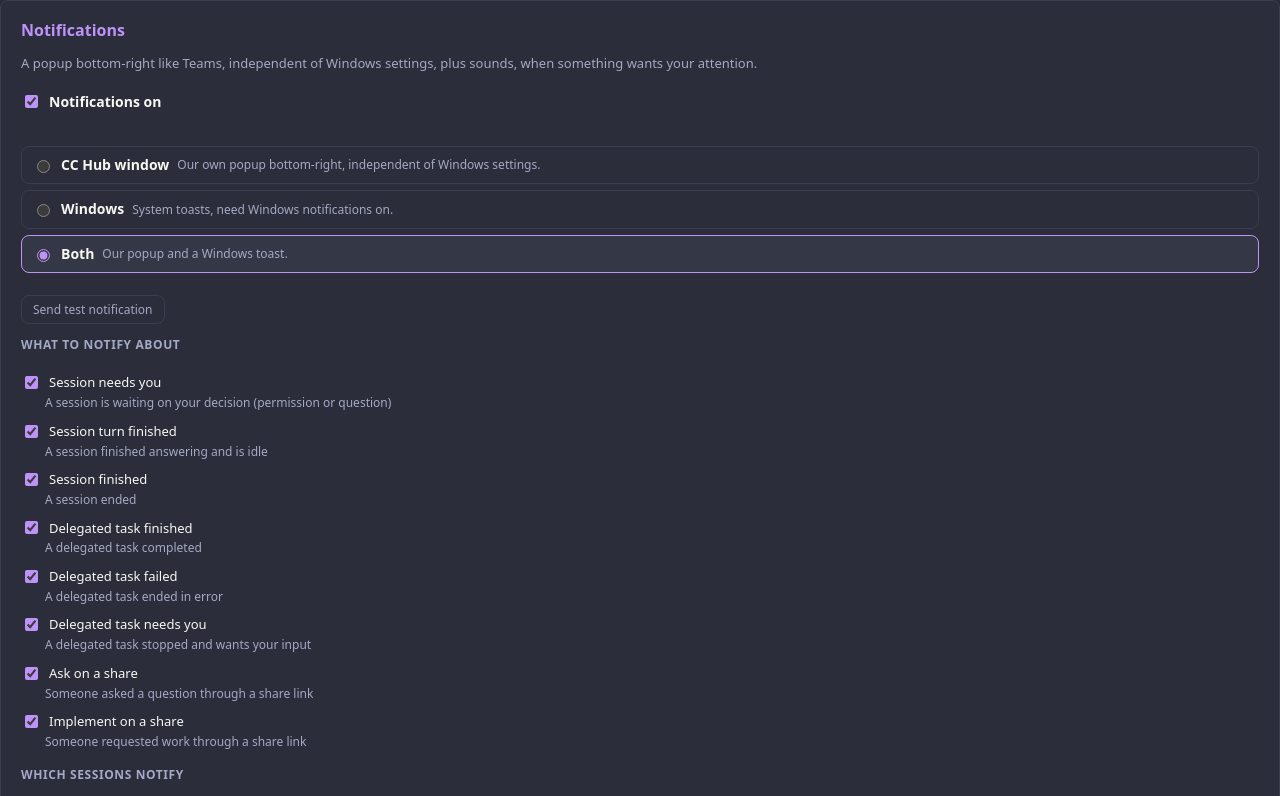
Scenario: the both style sends the in-app toast and the Windows one, naming the desktop plugin when it was used
Click the button "Send test notification". click: (93, 309)
box: [21,295,164,324]
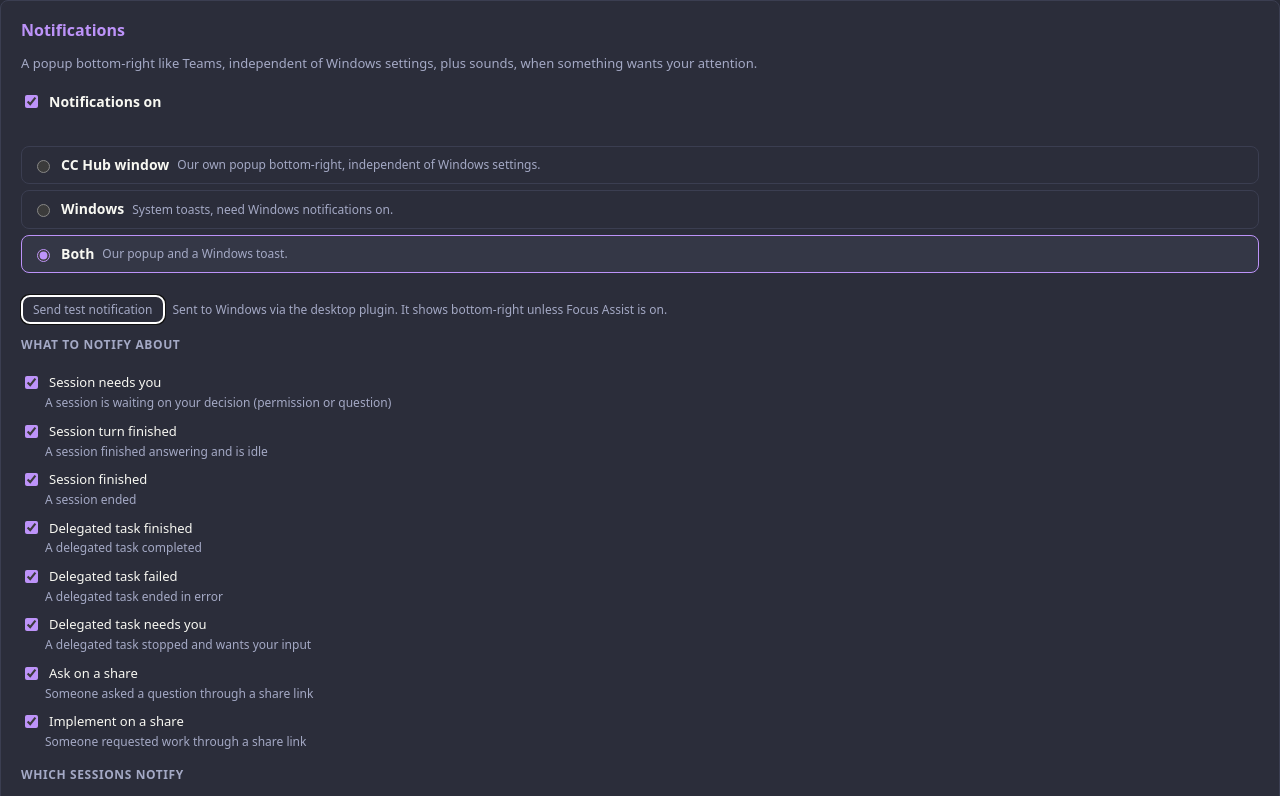
Expected: the text "Sent to Windows via the desktop plugin." is shown, [172,301,667,318]
